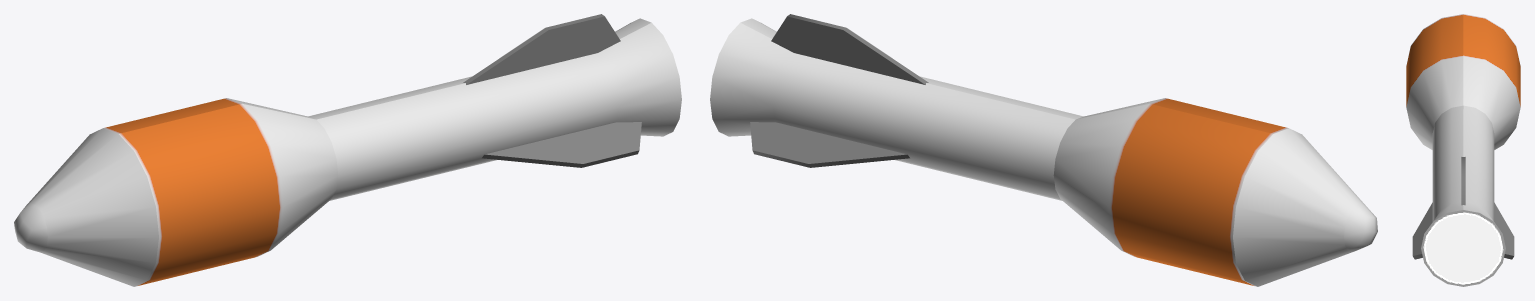
Rendered from Rocket.gltf.
3 renders of one model, left to right at view 1: azimuth 30°, elevation 25°; view 2: azimuth 150°, elevation 25°; view 3: azimuth 270°, elevation 25°, orthographic. The views are drawn at different scales.
Parts seen in each view (by area): view 1: Rocket, Rocket.001; view 2: Rocket, Rocket.001; view 3: Rocket, Rocket.001.
Boxes of the visible parts, bbox=[...] form: Rocket: bbox=[14, 18, 681, 286]; Rocket.001: bbox=[463, 14, 641, 167]; Rocket: bbox=[710, 18, 1377, 286]; Rocket.001: bbox=[750, 14, 928, 167]; Rocket: bbox=[1406, 14, 1520, 286]; Rocket.001: bbox=[1412, 157, 1514, 259].
Bounding box in the file's own units: 0.3885 × 0.0864 × 0.0861.
1 material, 1 textured.
